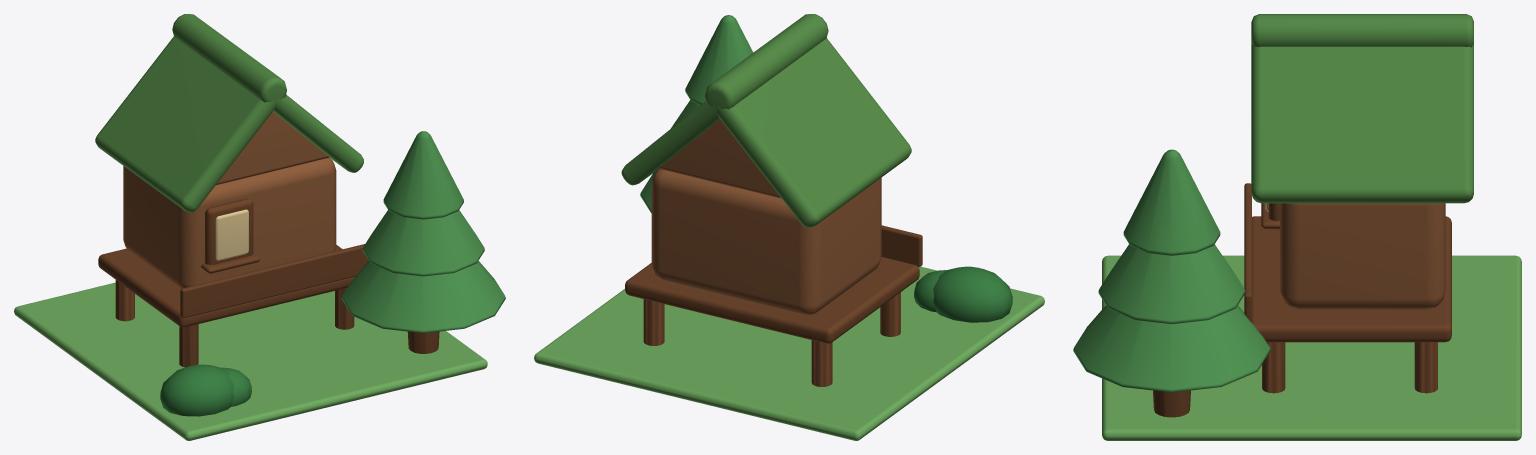
3 renders of one model, left to right at view 1: azimuth 30°, elevation 25°; view 2: azimuth 150°, elevation 25°; view 3: azimuth 270°, elevation 25°, orthographic. The views are drawn at different scales.
Visible parts, largest first — view 1: Cube; view 2: Cube; view 3: Cube.
Part boxes in pixels (bbox=[...]): Cube: bbox=[14, 14, 505, 440]; Cube: bbox=[534, 14, 1044, 440]; Cube: bbox=[1073, 14, 1521, 440].
Size of the model in its own units: 0.7354 by 0.6 by 0.7054.
